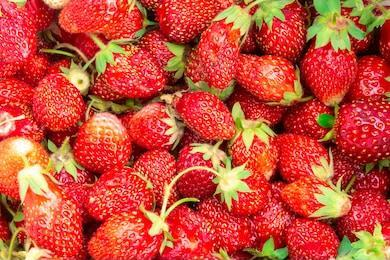Fresa: (11, 159, 90, 260), (296, 16, 360, 109), (183, 3, 244, 99), (223, 45, 307, 112), (94, 37, 175, 103), (80, 164, 159, 226), (85, 205, 174, 260), (269, 121, 339, 188), (29, 69, 92, 140), (72, 106, 134, 177), (173, 83, 244, 144), (226, 116, 284, 188), (249, 1, 312, 67), (175, 138, 235, 206), (334, 185, 390, 254), (216, 160, 279, 220), (123, 97, 183, 155), (278, 173, 354, 217), (281, 215, 350, 260)
